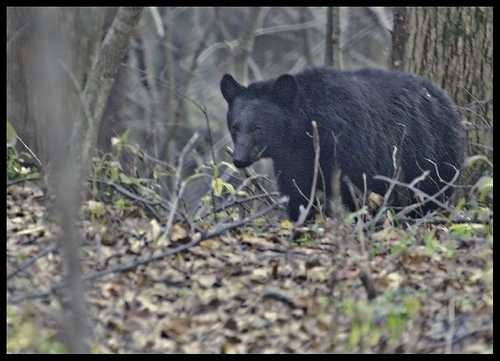bear: (205, 61, 333, 189)
